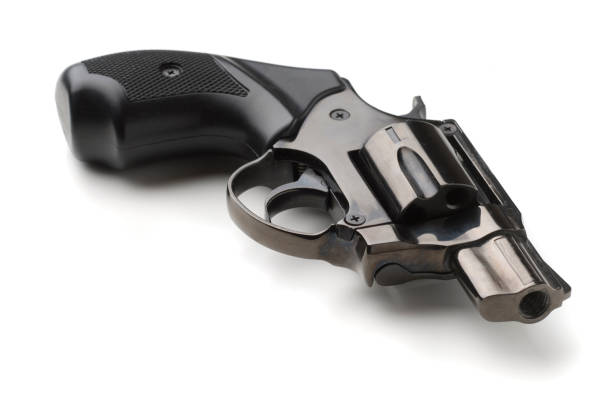pistol: (51, 45, 580, 328)
